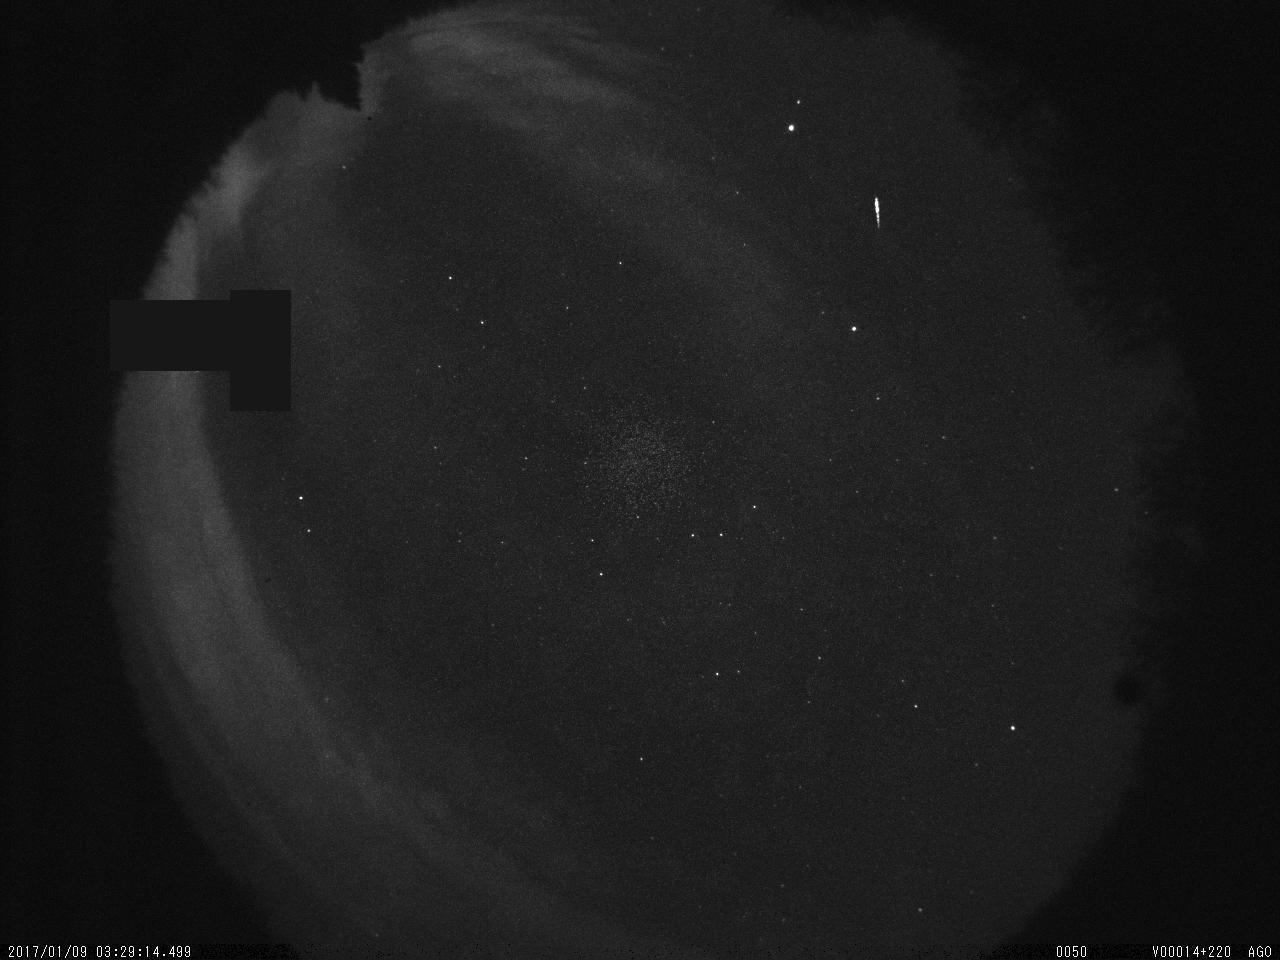Meteor: (874, 192, 884, 229)
